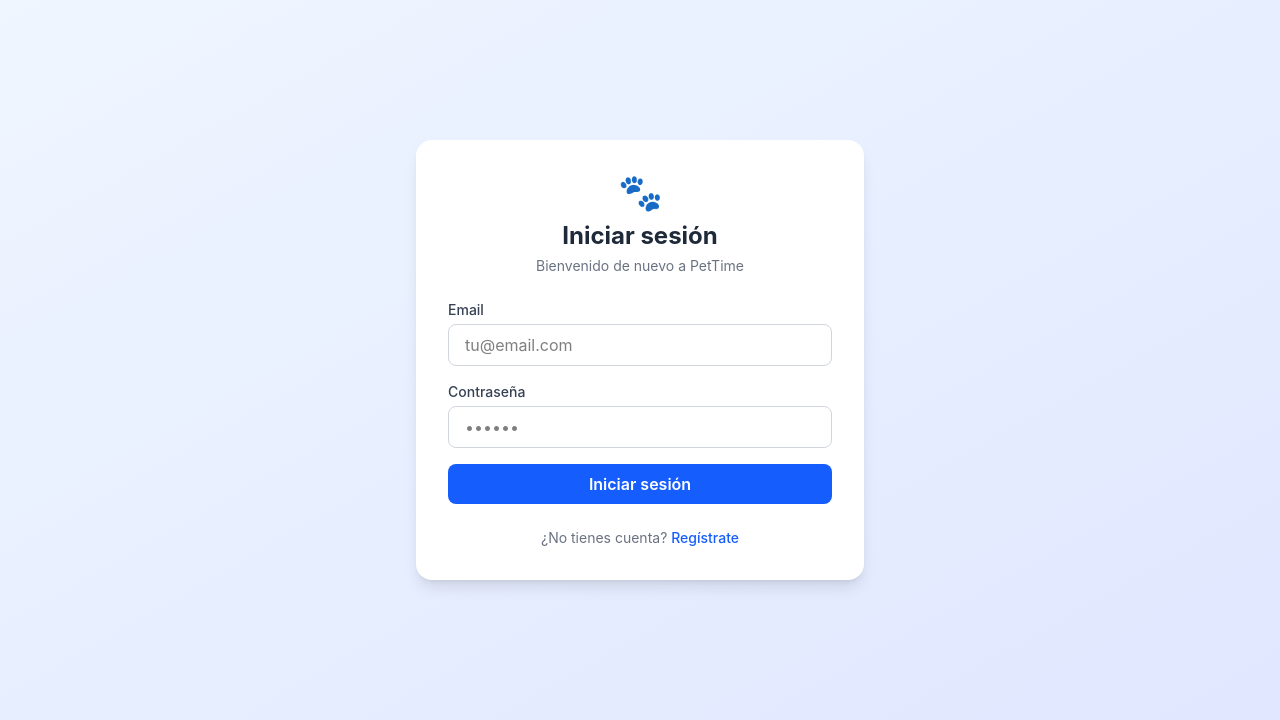
it: Mascotas › muestra mensaje cuando no hay mascotas
In the field named "email": x=640, y=345 [448,324,832,366], type "test@test.com"
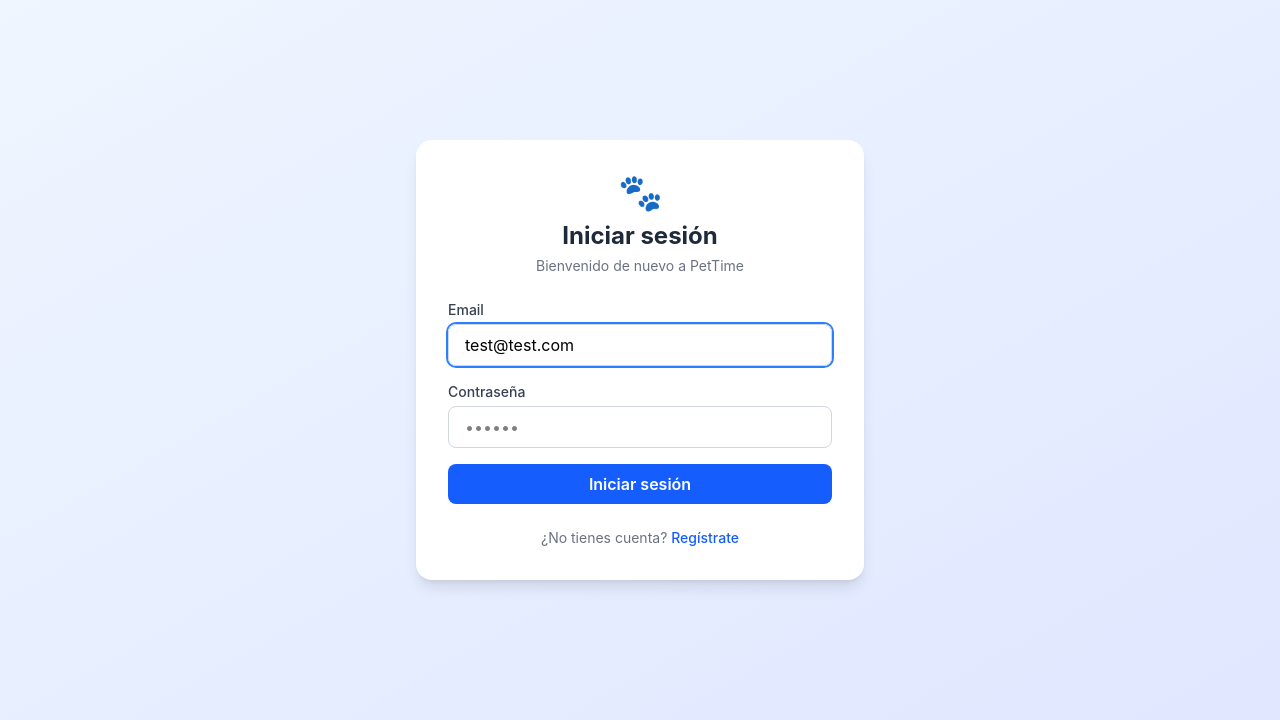
In the password field named "password": x=640, y=427 [448,406,832,448], type "password123"
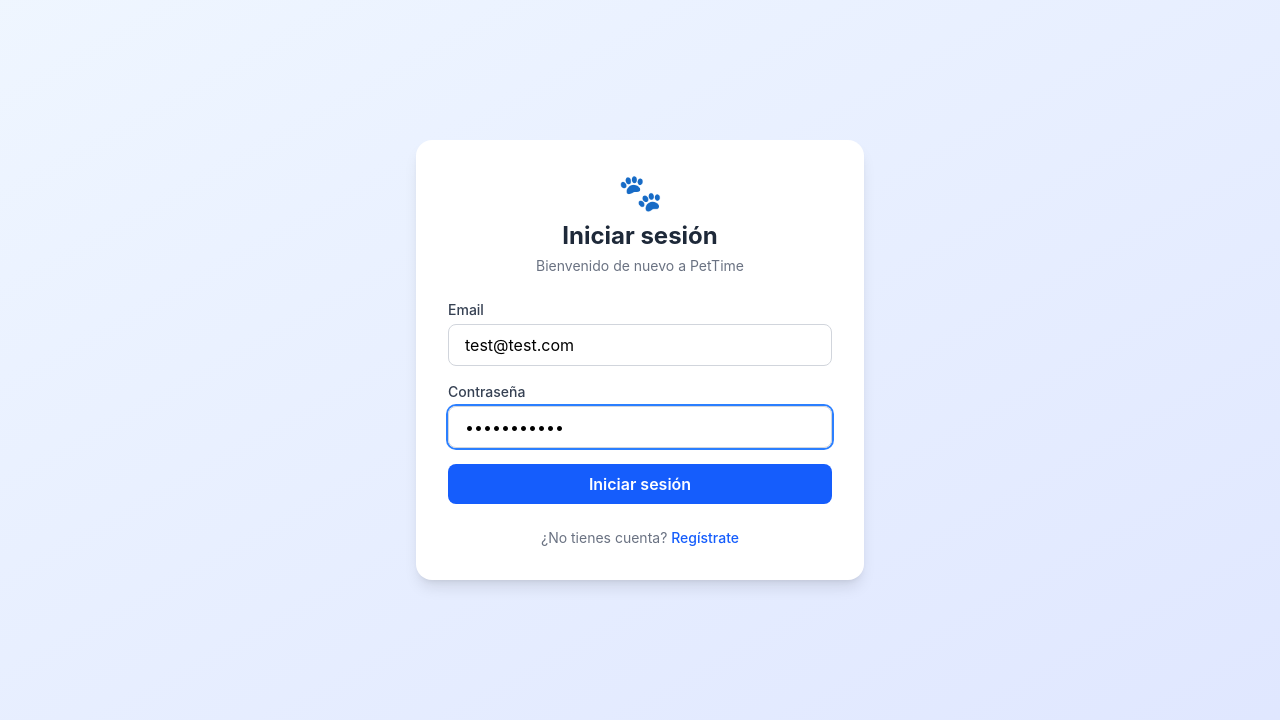
Click the submit button: x=640, y=484 [448,464,832,504]
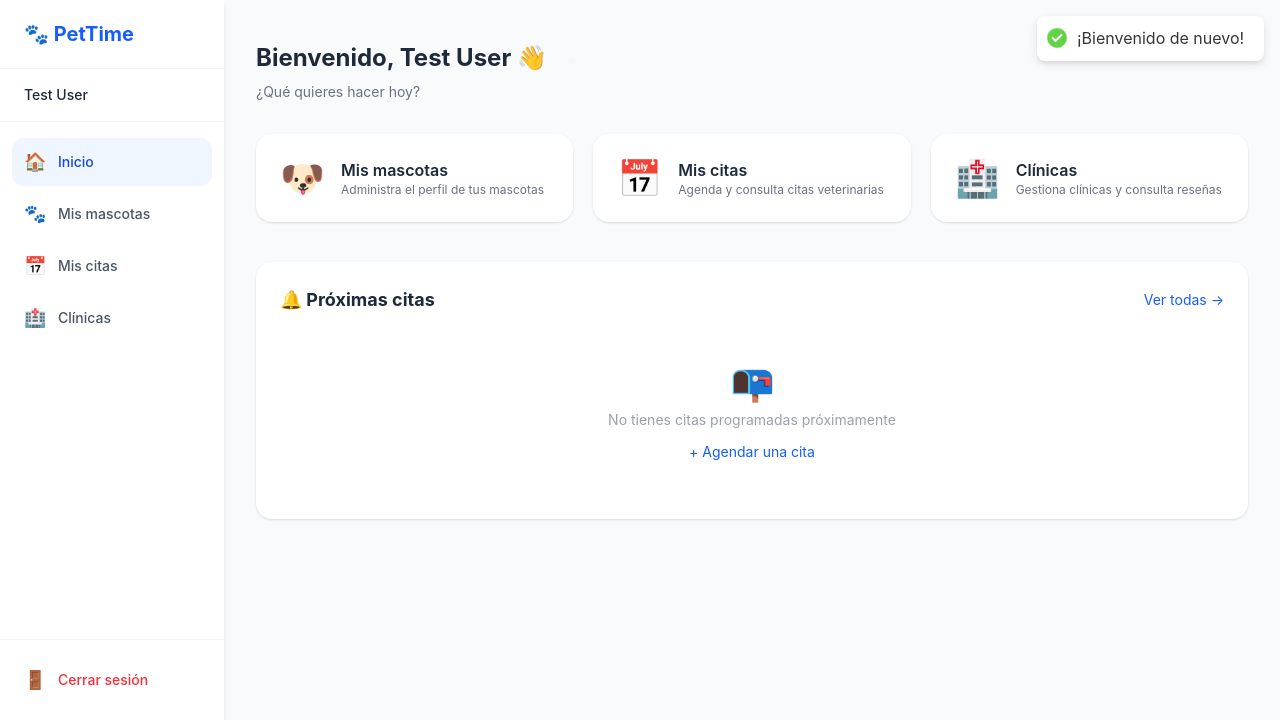
Open "/pets"
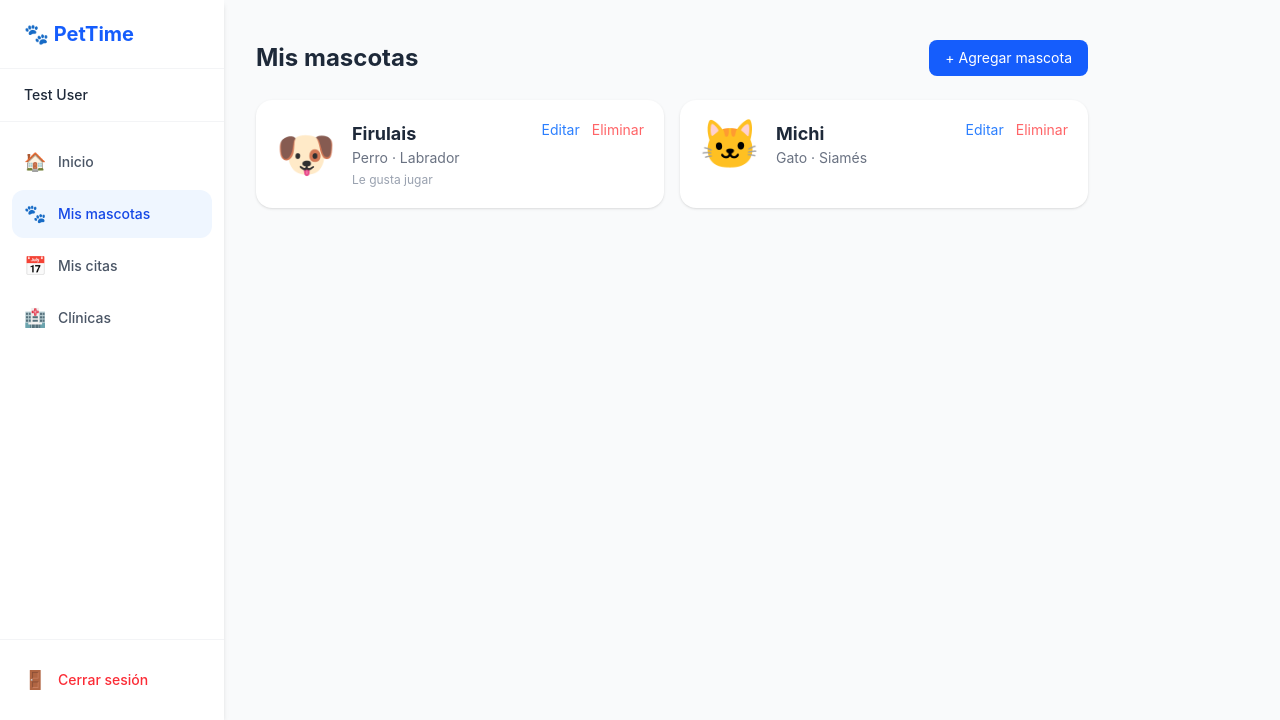
Open "/pets"
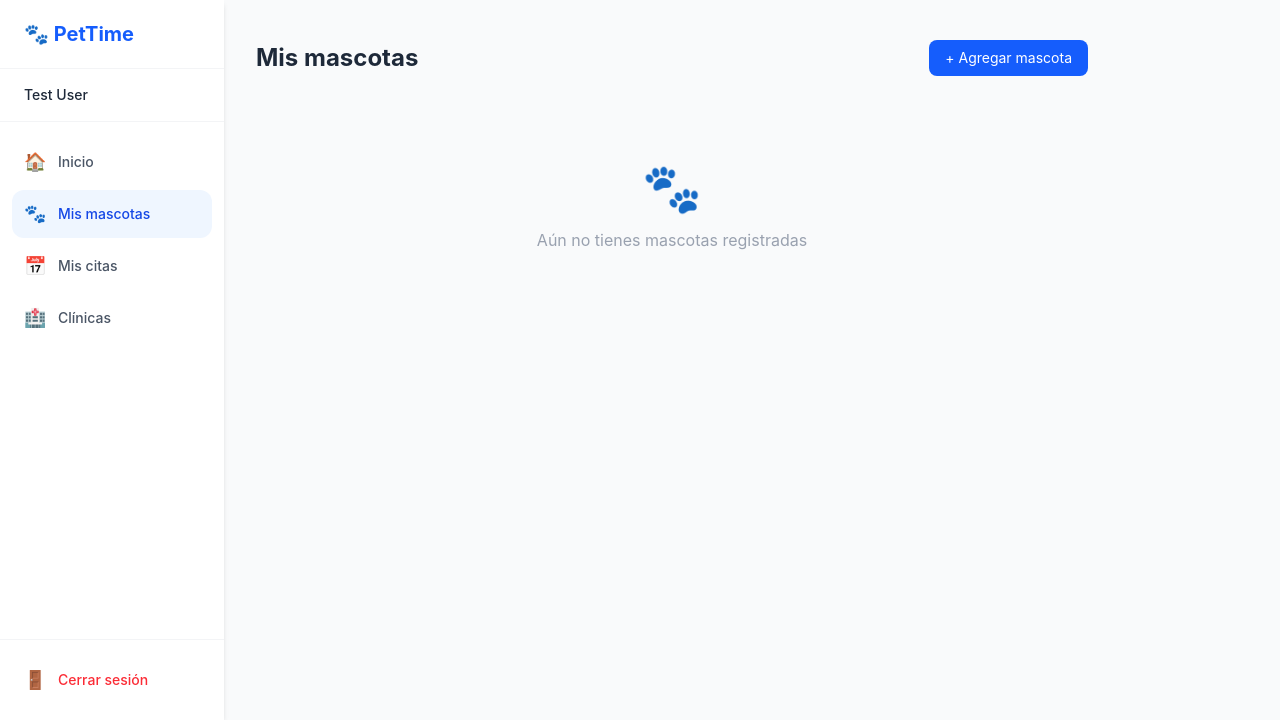
Now the text "Aún no tienes mascotas registradas" is shown, box [537,230,807,250]
